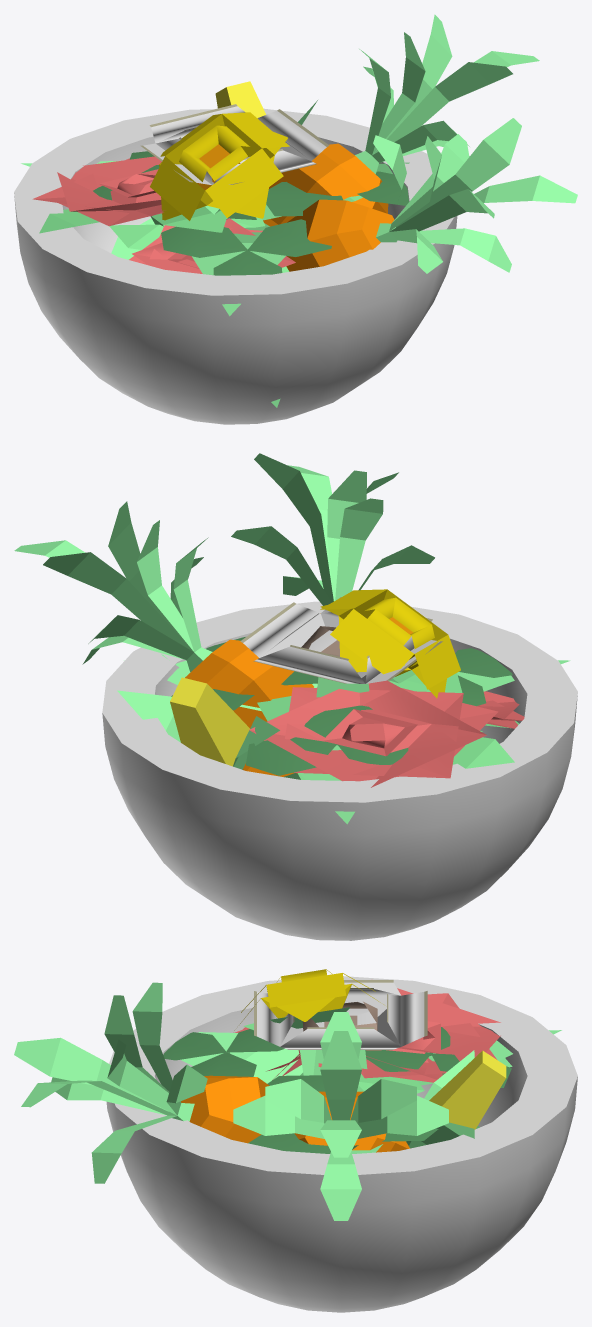
The model's file is salad.fbx.
3 views of the same model, one above another, from view 1: azimuth 30°, elevation 25°; view 2: azimuth 150°, elevation 25°; view 3: azimuth 270°, elevation 25° (orthographic). The views are drawn at different scales.
Visible parts, largest first — view 1: flower_purpleA5; view 2: flower_purpleA5; view 3: flower_purpleA5.
Part boxes in pixels (x1,y1,x2,y2): flower_purpleA5: [14, 14, 577, 424]; flower_purpleA5: [14, 453, 577, 940]; flower_purpleA5: [14, 969, 577, 1312].
Size of the model in its own units: 2.56 by 1.62 by 2.38.
